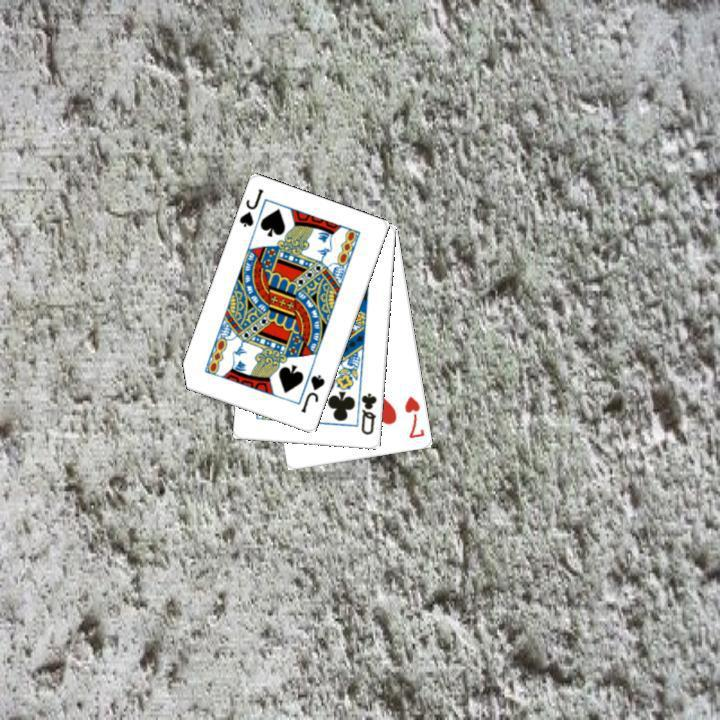7: (401, 392, 427, 441)
J: (235, 185, 266, 229), (297, 370, 327, 415)
Q: (357, 389, 379, 437)
